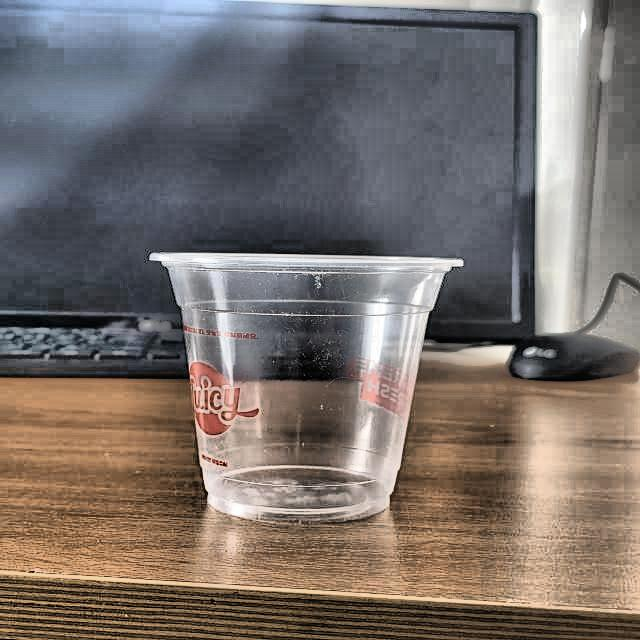plastic cup: (146, 247, 468, 522)
